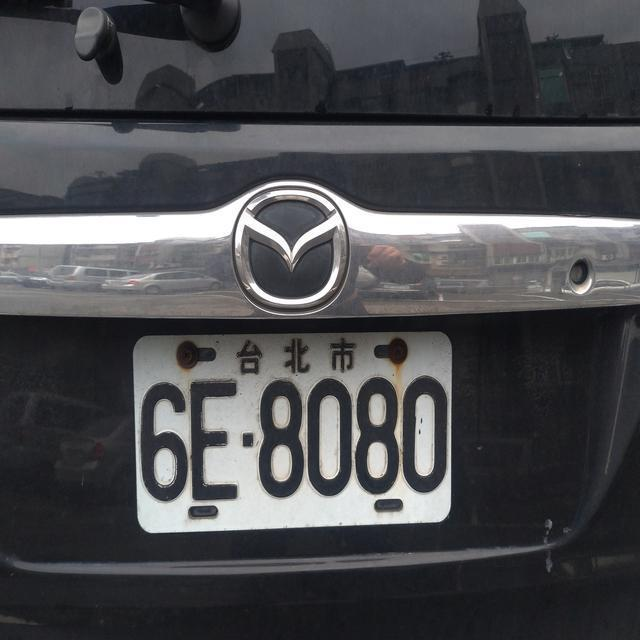plate: (132, 362, 456, 509)
